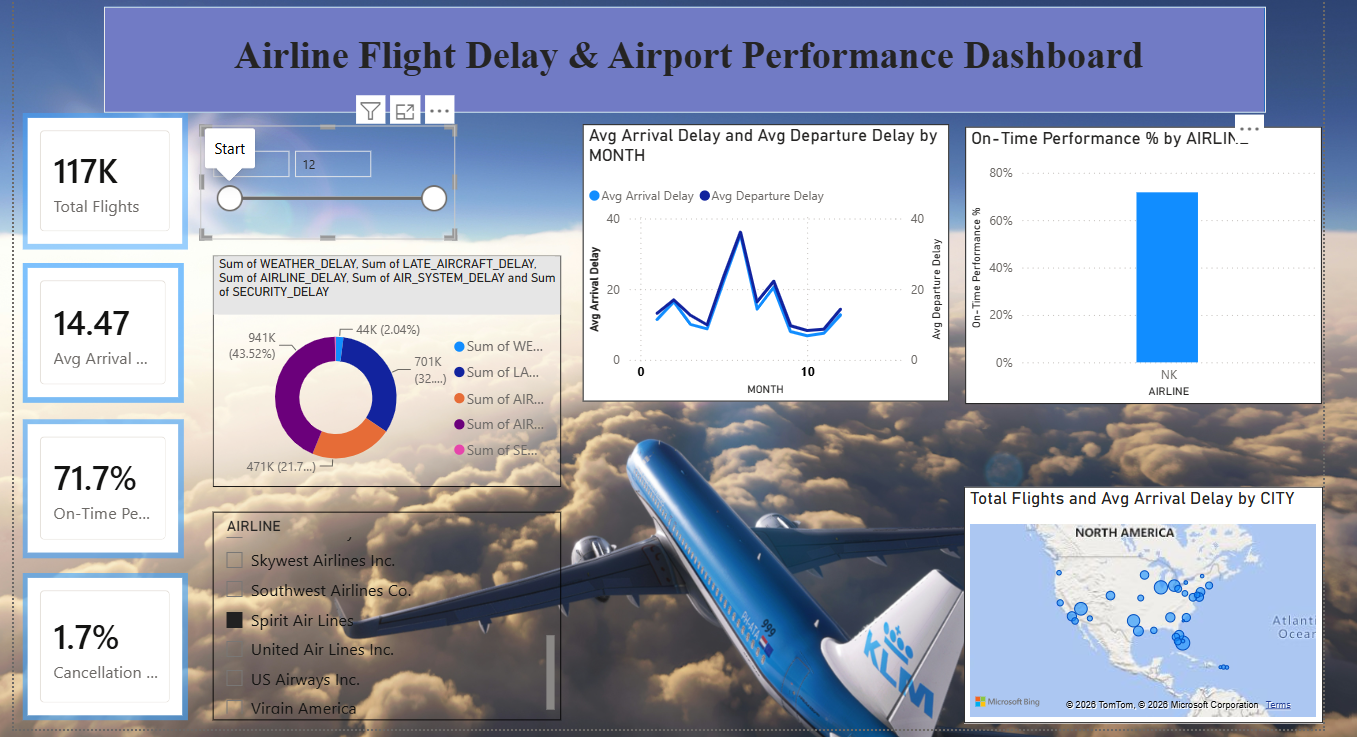

The dashboard page shown, as its layout file describes it:
{"tool":"powerbi","page":{"name":"Page 1","canvas":[1280,720],"ordinal":0},"visuals":[{"type":"cardVisual","fields":{"Data":["flights.Total Flights"]},"box":[8.6,117.4,161.4,133.3],"z":0},{"type":"cardVisual","fields":{"Data":["flights.On-Time Performance %"]},"box":[8.6,417,157.7,135.7],"z":1000},{"type":"cardVisual","fields":{"Data":["flights.Avg Arrival Delay"]},"box":[8.6,264.1,157.7,137],"z":2000},{"type":"cardVisual","fields":{"Data":["flights.Cancellation Rate %"]},"box":[8.6,567.4,161.4,144.3],"z":3000},{"type":"columnChart","fields":{"Category":["flights.AIRLINE"],"Y":["flights.On-Time Performance %"]},"box":[930.4,130.4,348.5,271.5],"z":4000},{"type":"map","fields":{"Category":["airports.CITY"],"Size":["flights.Total Flights"]},"box":[929.1,483.5,351,231.1],"z":5000},{"type":"shape","box":[88,13.5,1136,103.9],"z":6000},{"type":"textbox","box":[210.3,34.2,968.5,72.1],"z":7000},{"type":"slicer","fields":{"Values":["airlines.AIRLINE"]},"box":[194.9,507.6,340.5,203.8],"z":8000},{"type":"slicer","fields":{"Values":["flights.MONTH"]},"box":[182.2,129.6,249.5,111.3],"z":9000},{"type":"lineChart","fields":{"Y":["flights.Avg Arrival Delay"],"Y2":["flights.Avg Departure Delay"],"Category":["flights.MONTH"]},"box":[557,127.8,358.3,271.5],"z":10000},{"type":"donutChart","fields":{"Y":["Sum(flights.WEATHER_DELAY)","Sum(flights.LATE_AIRCRAFT_DELAY)","Sum(flights.AIRLINE_DELAY)","Sum(flights.AIR_SYSTEM_DELAY)","Sum(flights.SECURITY_DELAY)"]},"box":[194.9,257,340.5,226.6],"z":11000}]}

Visuals, with their boxes in screenshot pixels (x1, y1, x2, y2):
cardVisual - flights.Total Flights: left=30, top=115, right=193, bottom=250
cardVisual - flights.On-Time Performance %: left=30, top=418, right=189, bottom=556
cardVisual - flights.Avg Arrival Delay: left=30, top=264, right=189, bottom=402
cardVisual - flights.Cancellation Rate %: left=30, top=570, right=193, bottom=716
columnChart - flights.AIRLINE x flights.On-Time Performance %: left=962, top=128, right=1315, bottom=403
map - airports.CITY x flights.Total Flights: left=961, top=486, right=1316, bottom=719
shape: left=110, top=10, right=1259, bottom=115
textbox: left=234, top=31, right=1214, bottom=104
slicer - airlines.AIRLINE: left=218, top=510, right=563, bottom=716
slicer - flights.MONTH: left=206, top=128, right=458, bottom=240
lineChart - flights.Avg Arrival Delay x flights.Avg Departure Delay: left=585, top=126, right=947, bottom=400
donutChart - Sum(flights.WEATHER_DELAY) x Sum(flights.LATE_AIRCRAFT_DELAY): left=218, top=256, right=563, bottom=486
